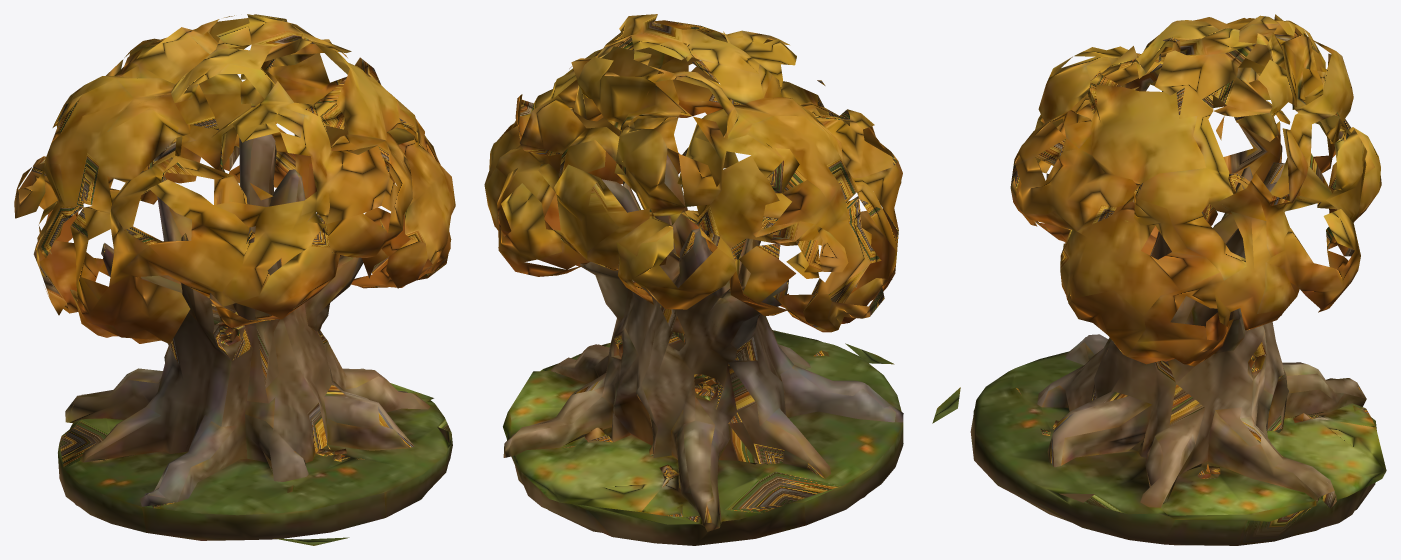
Rendered from ever-tree.glb.
The picture shows the model from 3 angles, left to right: view 1: azimuth 30°, elevation 25°; view 2: azimuth 150°, elevation 25°; view 3: azimuth 270°, elevation 25°; orthographic projection. The views are drawn at different scales.
Parts seen in each view (by area): view 1: geometry_0; view 2: geometry_0; view 3: geometry_0.
Part boxes in pixels (x1,y1,x2,y2): geometry_0: [14, 14, 455, 545]; geometry_0: [484, 14, 903, 545]; geometry_0: [932, 14, 1386, 545].
Bounding box in the file's own units: 0.7411 × 0.8019 × 0.7228.
Materials: 1 (1 with a texture image).
